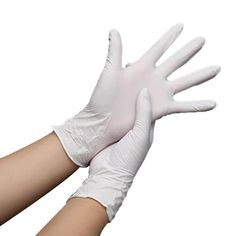gloves: (49, 21, 223, 170), (62, 87, 152, 209)
